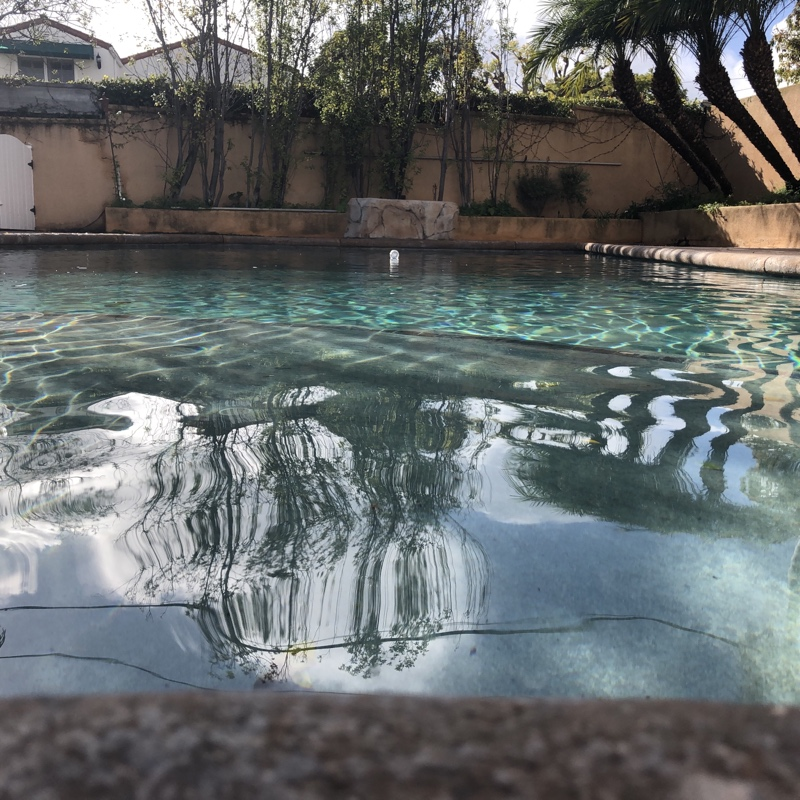Plastic Bottle: (388, 248, 398, 263)
